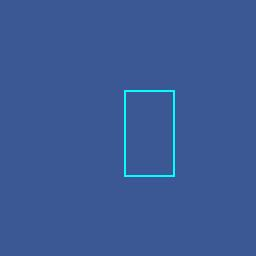Face Mask: (123, 90, 174, 176)
